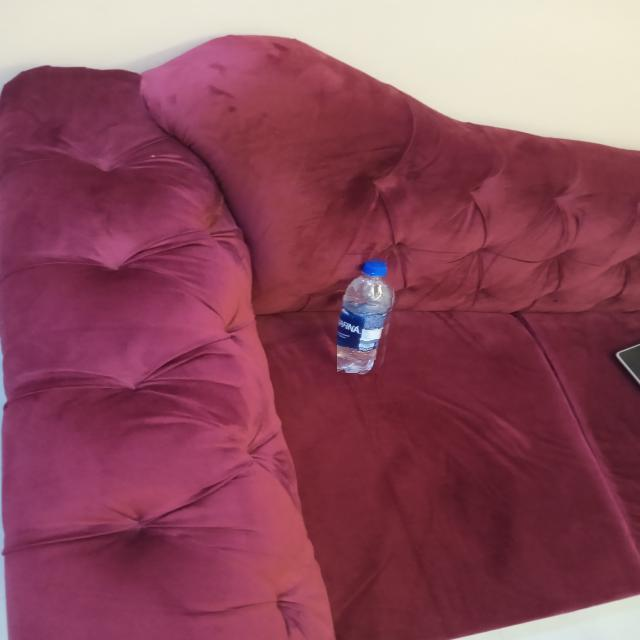Plastic: (337, 257, 396, 373)
